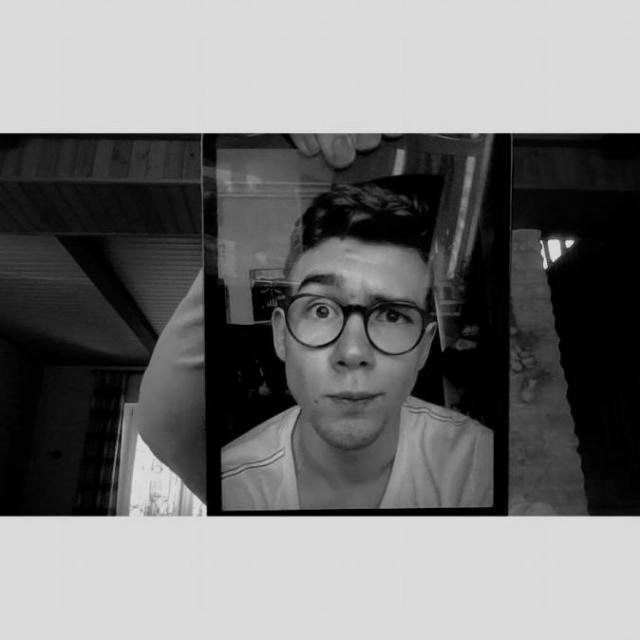fake: (204, 132, 514, 515)
